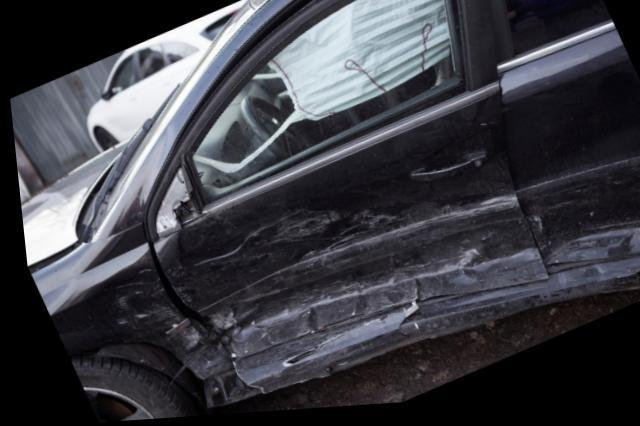crack: (630, 275, 640, 297)
dent: (187, 183, 540, 360), (536, 195, 640, 277)
scratch: (101, 267, 170, 332)
